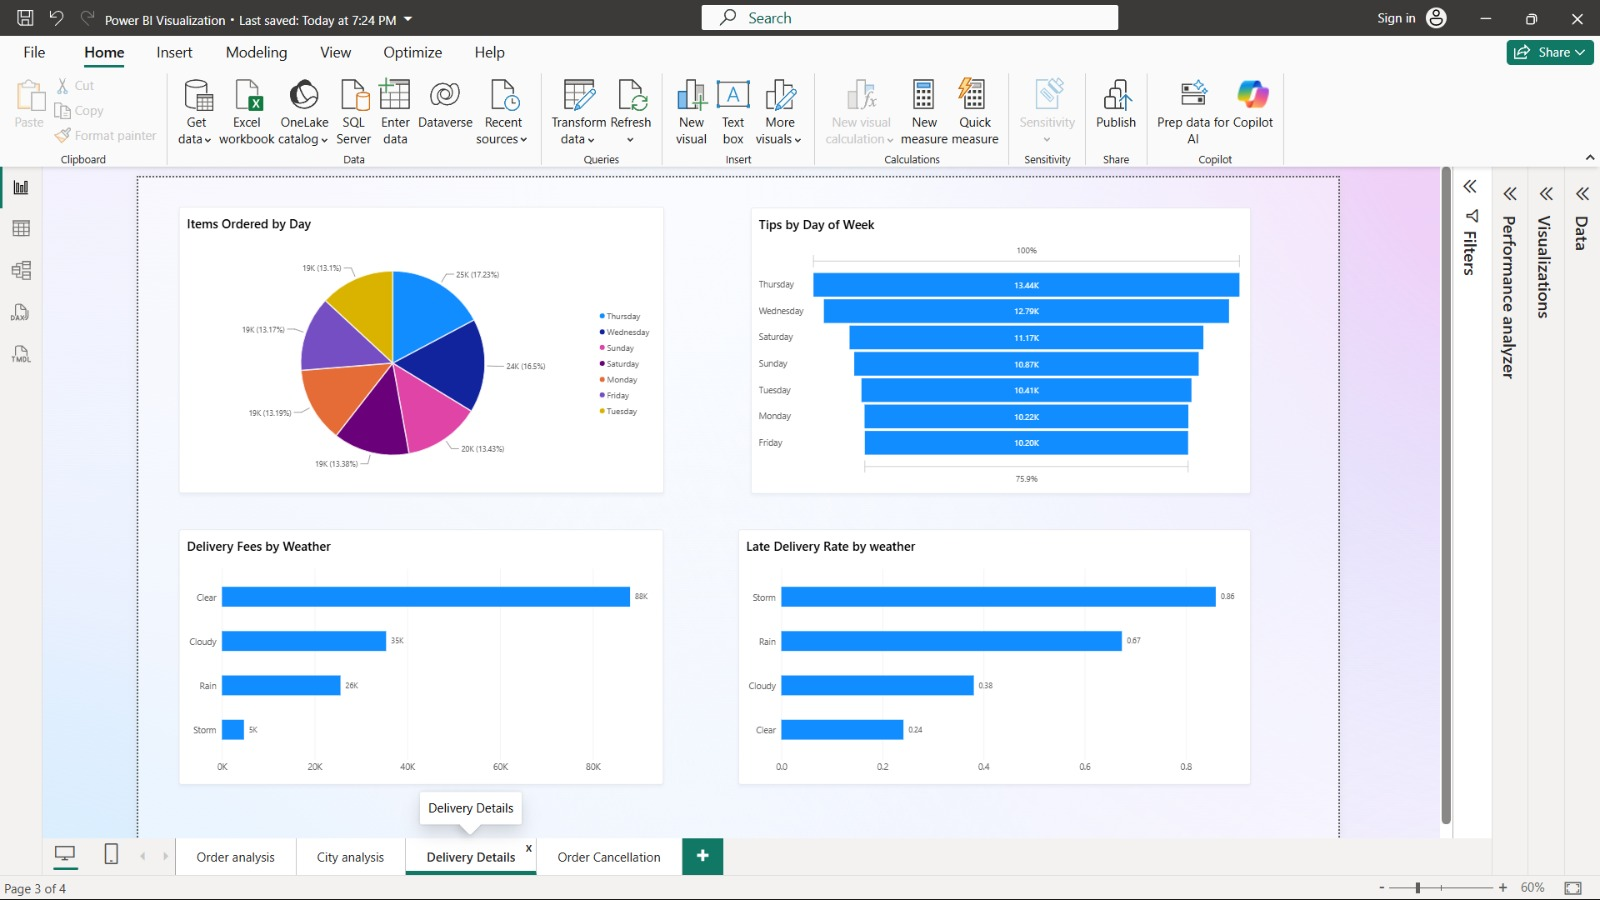

The page's visual inventory and layout, read from the dashboard file:
{"tool":"powerbi","page":{"name":"Delivery Details","canvas":[1920,1080],"ordinal":2},"visuals":[{"type":"barChart","fields":{"Category":["Main_Sheet.weather"],"Y":["Main_Sheet.Late Delivery Rate"]},"box":[960,563.3,820,408.3],"z":0},{"type":"pieChart","title":"Items Ordered by Day","fields":{"Category":["Main_Sheet.day_of_week"],"Y":["Sum(Main_Sheet.items_count)"]},"box":[65.7,47.1,775.7,458.6],"z":1000},{"type":"barChart","title":"Delivery Fees by Weather","fields":{"Category":["Main_Sheet.weather"],"Y":["Sum(Main_Sheet.delivery_fee)"]},"box":[65,563.3,775,408.3],"z":2000},{"type":"funnel","title":"Tips by Day of Week","fields":{"Category":["Main_Sheet.day_of_week"],"Y":["Sum(Main_Sheet.tip_amount)"]},"box":[980,47.5,800,457.5],"z":3000}]}

Visuals, with their boxes on the page's 1920x1080 design canvas (x1, y1, x2, y2). These are canvas units, not pixel positions in the 1600x900 screenshot, which may show the page scaled, cropped or inside an application window:
barChart - Main_Sheet.weather x Main_Sheet.Late Delivery Rate: <box>960,563,1780,972</box>
"Items Ordered by Day" pieChart: <box>66,47,841,506</box>
"Delivery Fees by Weather" barChart: <box>65,563,840,972</box>
"Tips by Day of Week" funnel: <box>980,48,1780,505</box>
